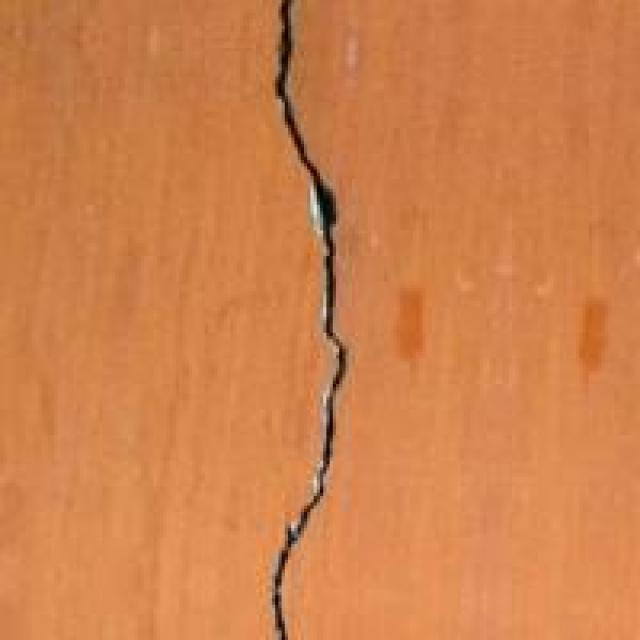Crack: (195, 0, 409, 637)
